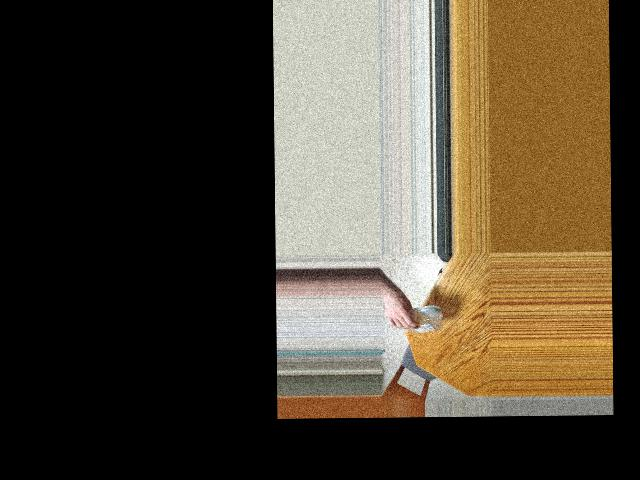cheese: (395, 301, 437, 336)
